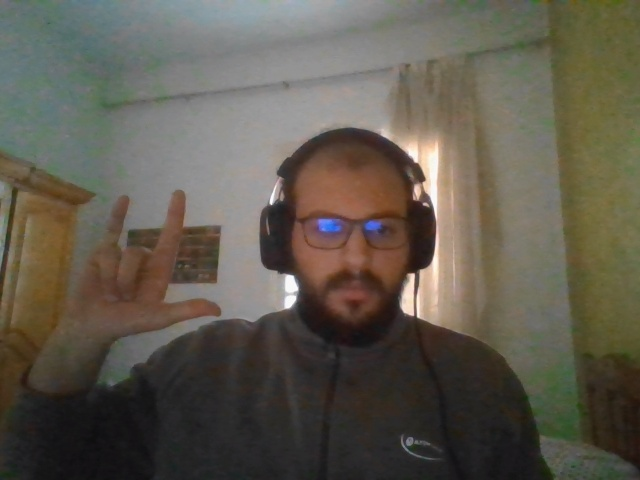I Love You: (74, 192, 220, 335)
